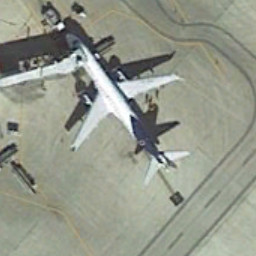Airplane: (60, 23, 205, 188)
